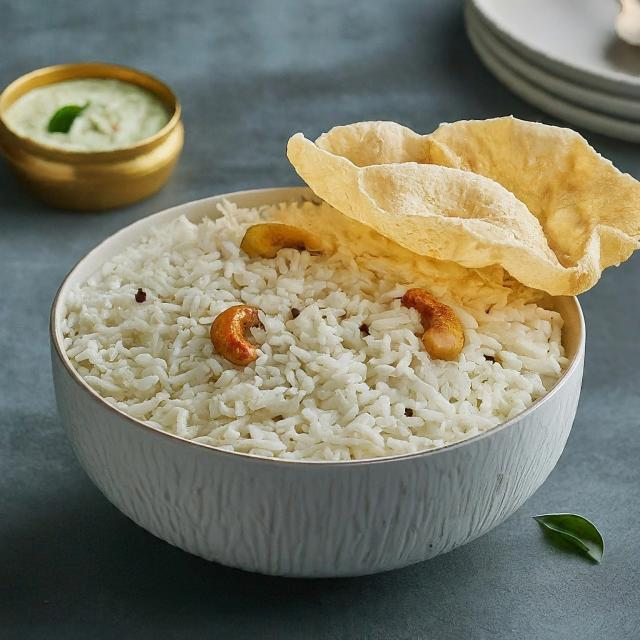nei satham: (114, 163, 489, 437)
